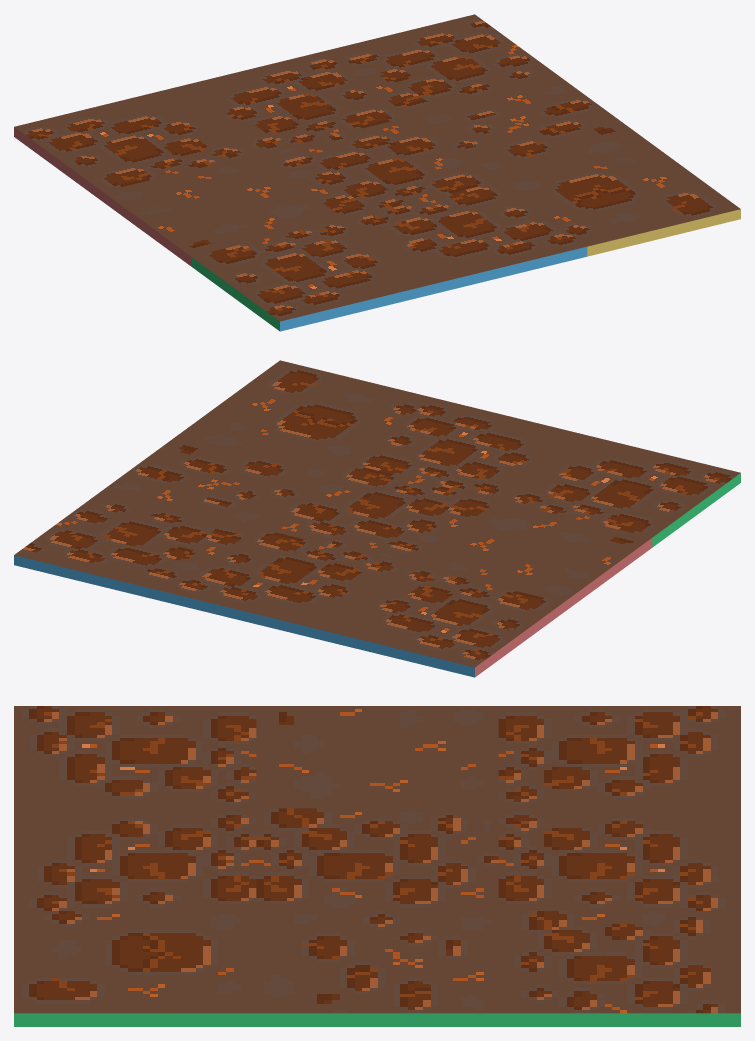
File: Rebel_Floor.gltf
3 views of the same model, one above another, from view 1: azimuth 30°, elevation 25°; view 2: azimuth 150°, elevation 25°; view 3: azimuth 270°, elevation 25° (orthographic). The views are drawn at different scales.
Visible parts, largest first — view 1: cuboid (×9); view 2: cuboid (×9); view 3: cuboid (×9).
Part boxes in pixels (bbox=[...]): cuboid (×9): bbox=[14, 14, 740, 331]; cuboid (×9): bbox=[14, 360, 740, 677]; cuboid (×9): bbox=[14, 706, 740, 1026].
Bounding box in the file's own units: 3 × 0.0625 × 3.
Materials: 9 (9 with a texture image).
